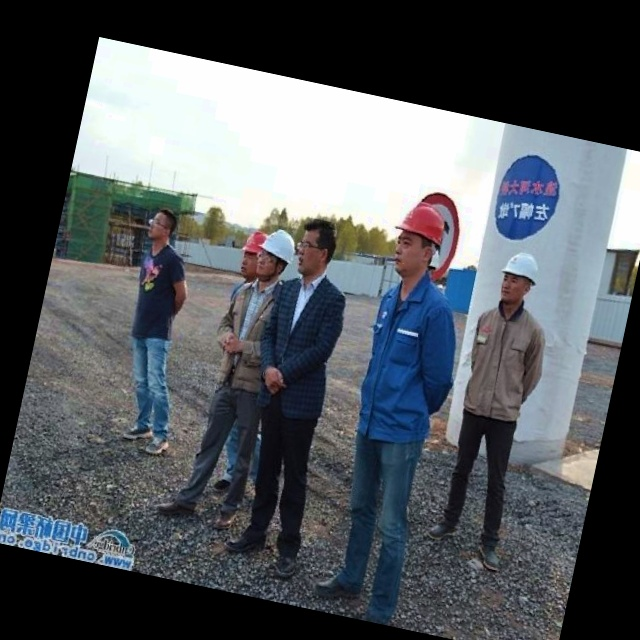Con_Casco: (255, 225, 298, 283)
Sin_Casco_Mascarrilla: (294, 214, 343, 277)
Sin_Chaleco: (348, 275, 462, 447), (252, 271, 352, 419)
